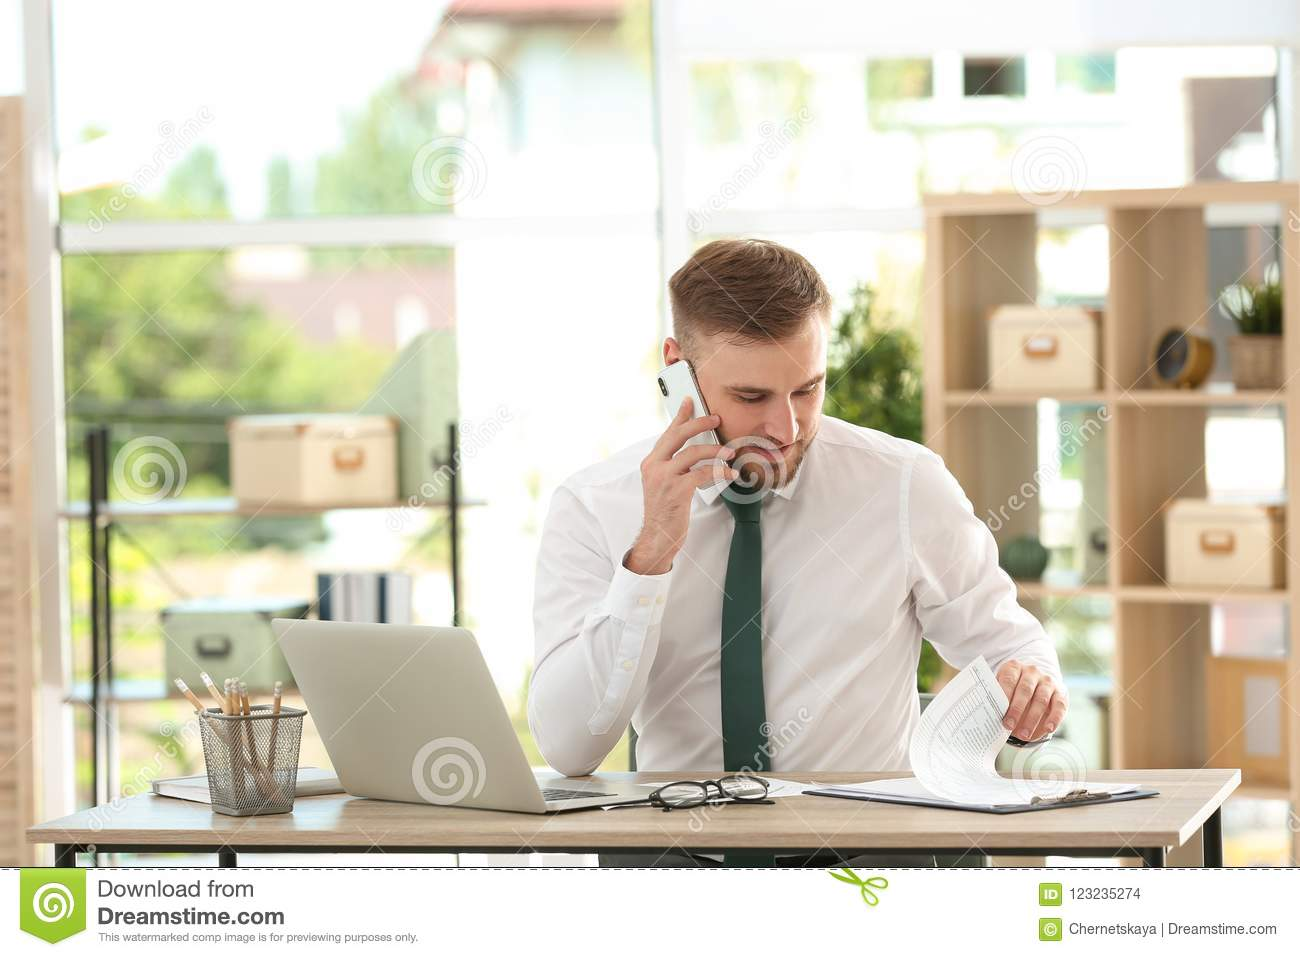phone: (657, 360, 727, 490)
talk: (641, 359, 827, 552)
